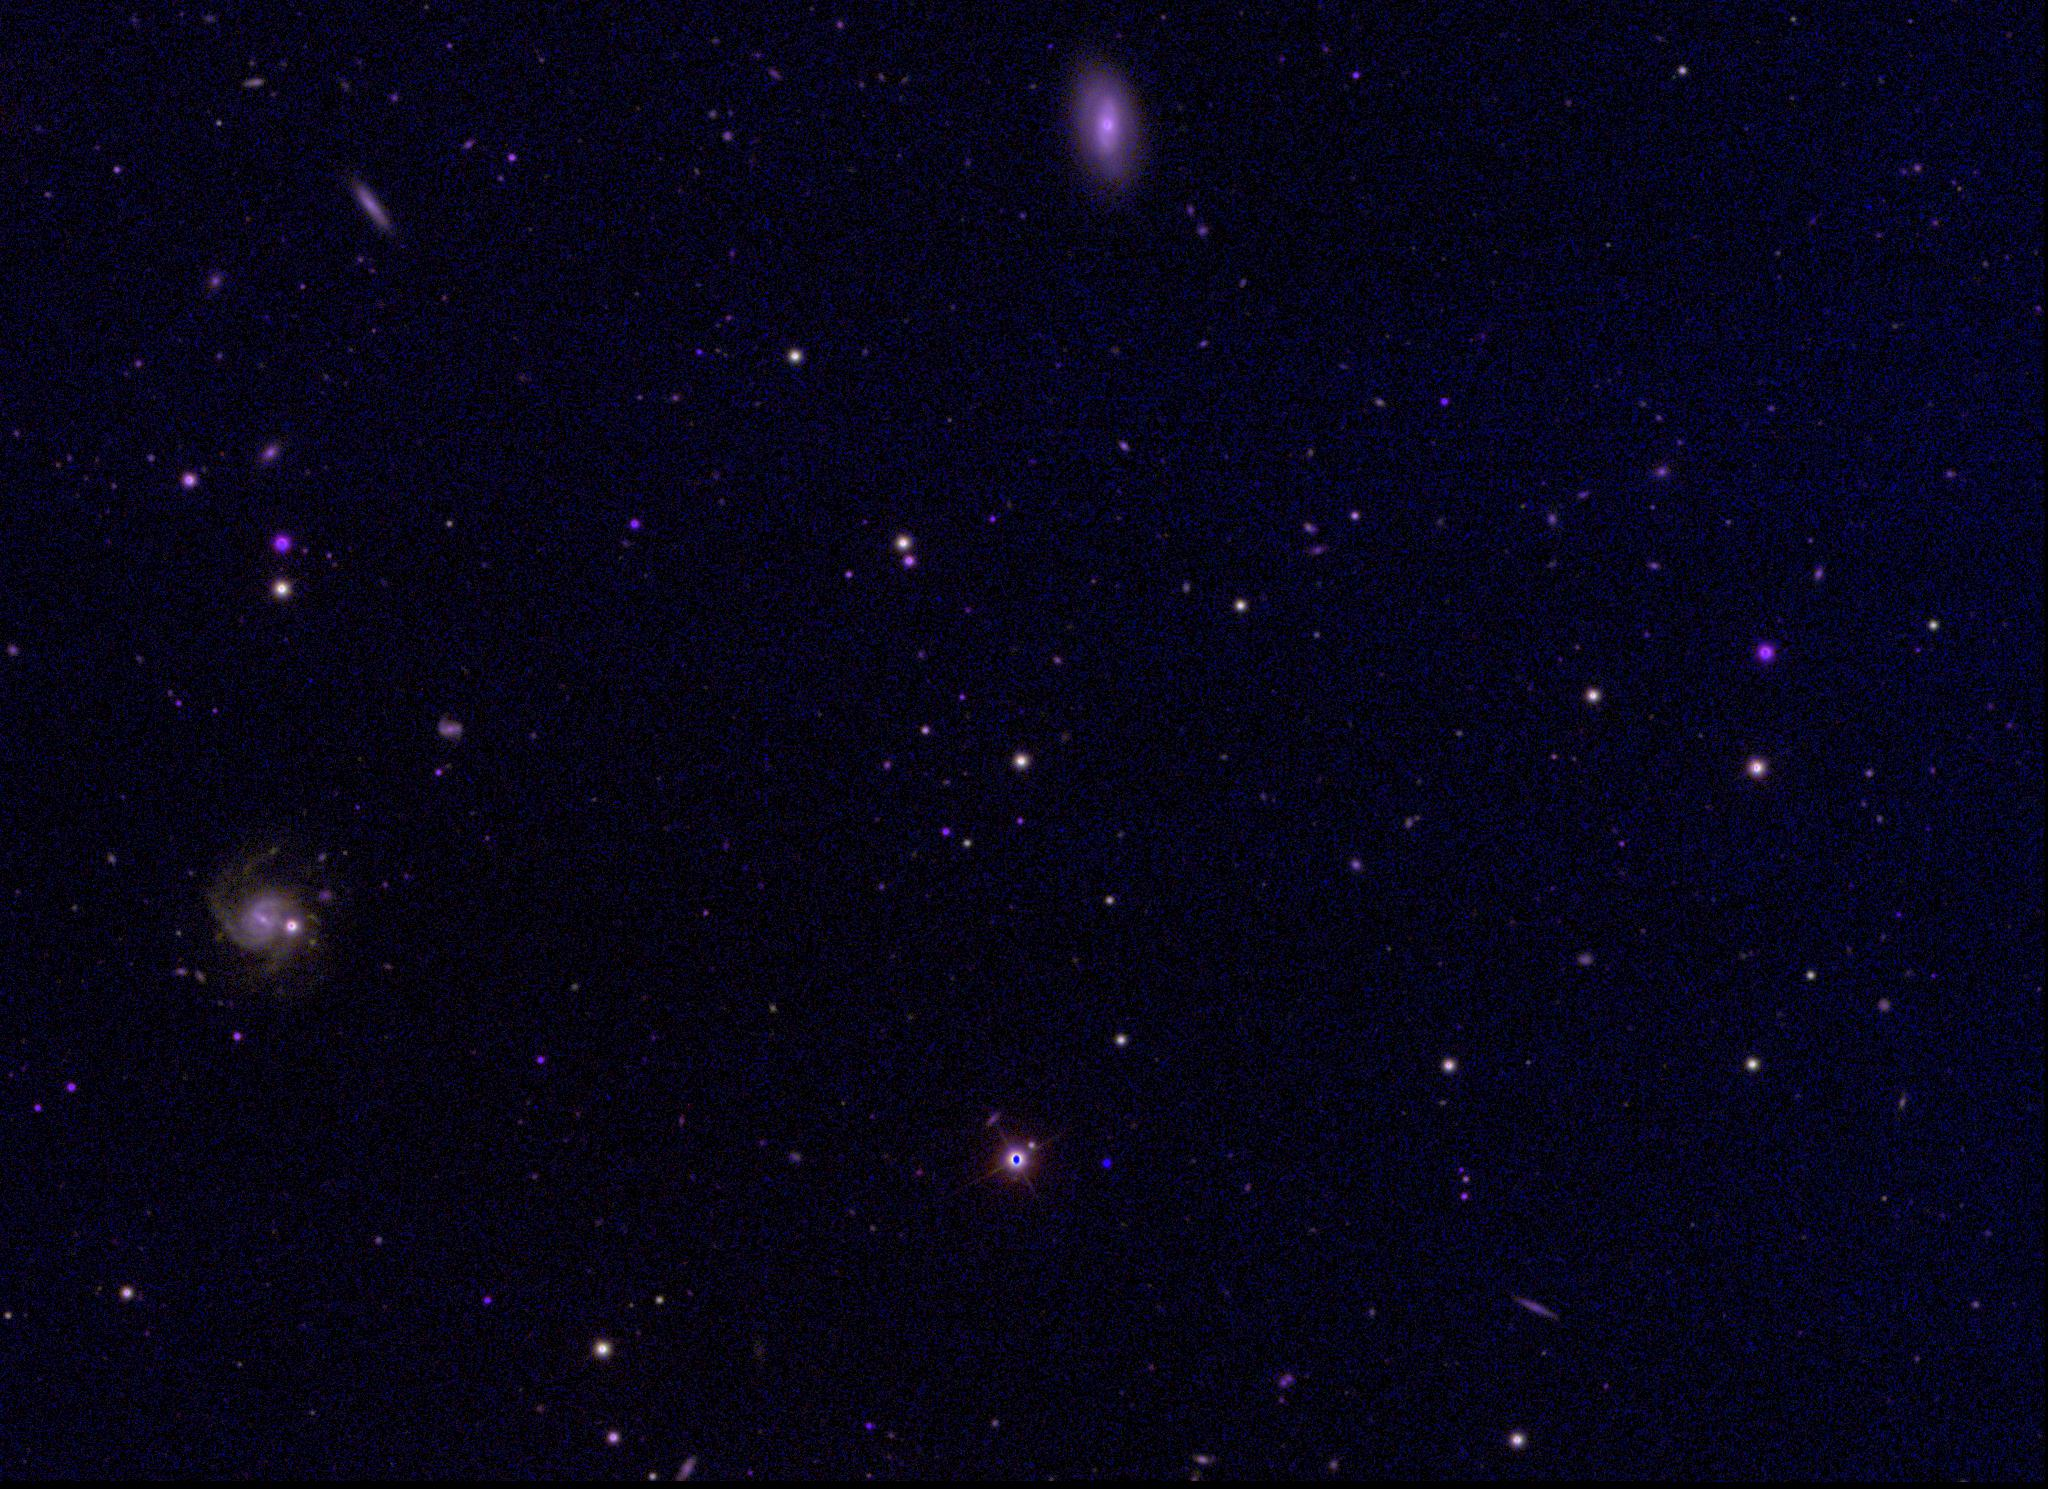L: (1100, 1157, 1115, 1169)
